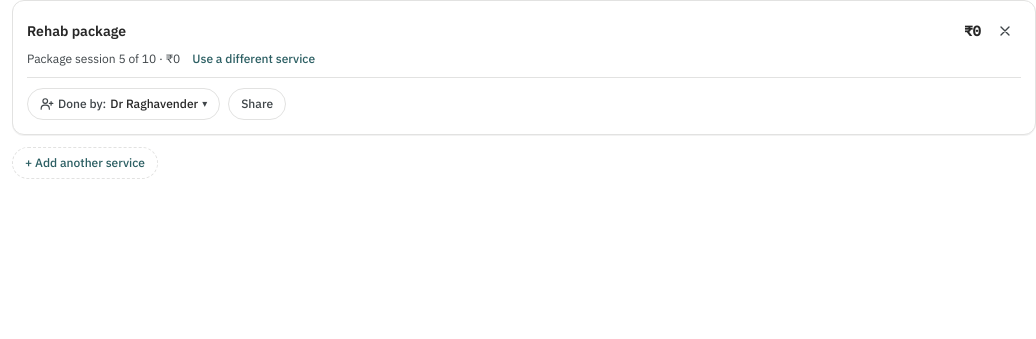
ServiceRows › use a different service replaces the package row
Click the button "Use a different service".
click(254, 59)  # box [192,51,315,67]
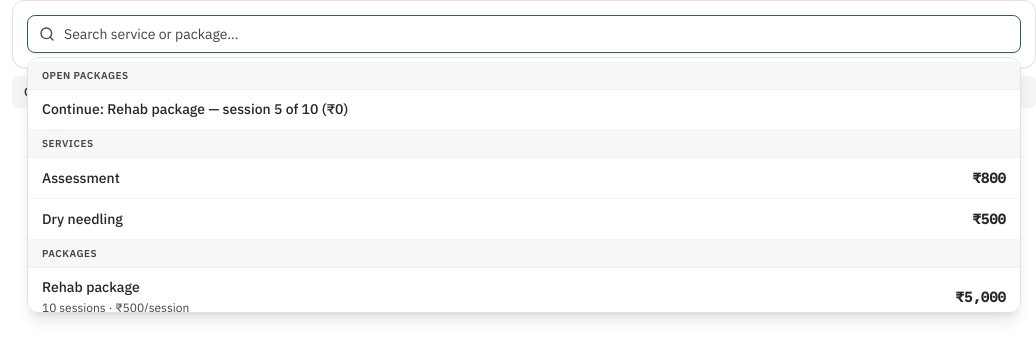
Now the dropdown labelled "service" is shown, box [27,15,1021,53]
